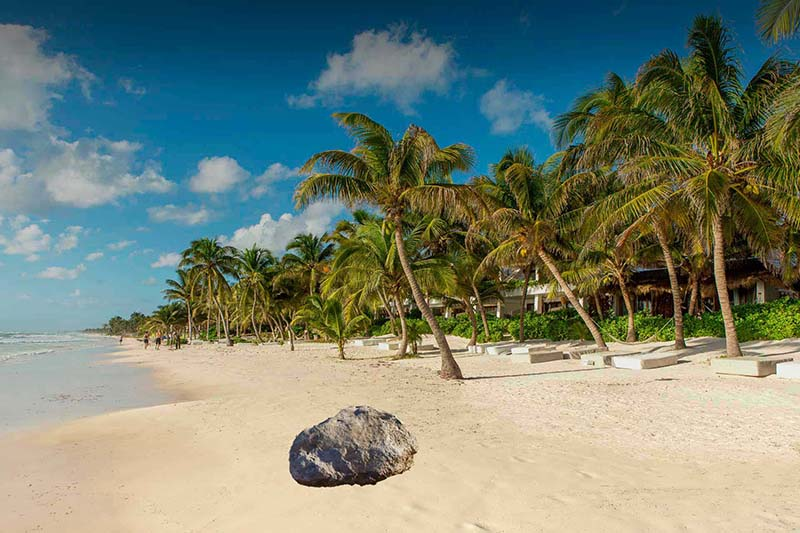Rocks: (279, 402, 424, 491)
